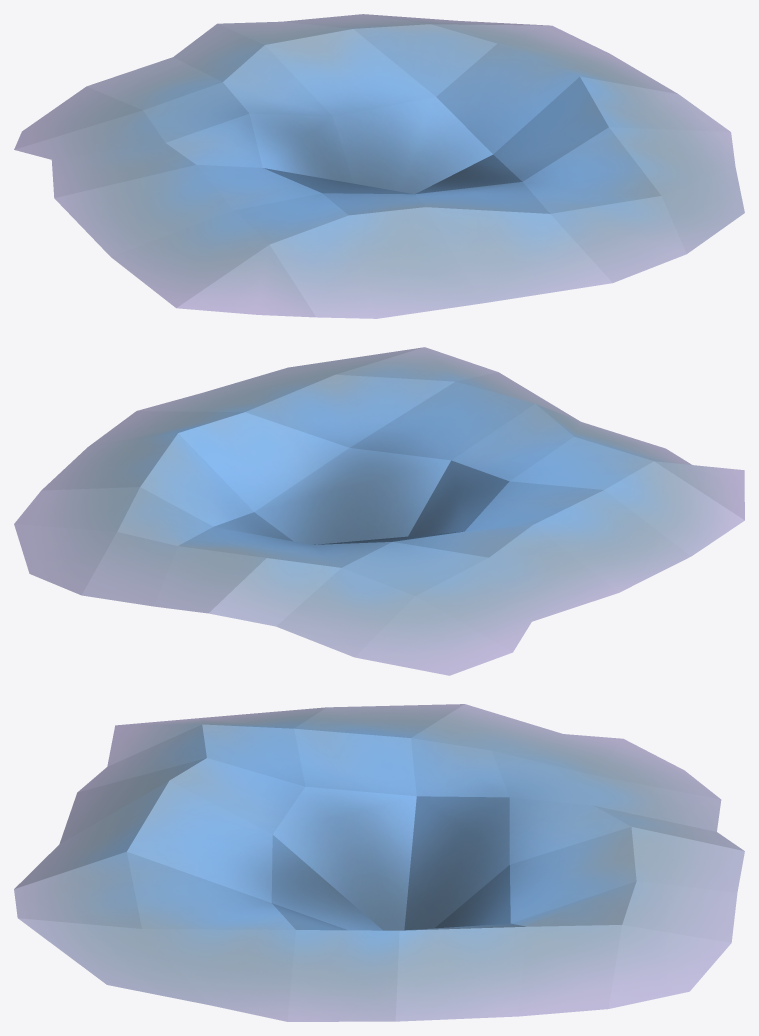
The model's file is TableCoral02.fbx.
3 views of the same model, one above another, from view 1: azimuth 30°, elevation 25°; view 2: azimuth 150°, elevation 25°; view 3: azimuth 270°, elevation 25° (orthographic). The views are drawn at different scales.
Parts seen in each view (by area): view 1: TableCoral02; view 2: TableCoral02; view 3: TableCoral02.
Part boxes in pixels (x1,y1,x2,y2): TableCoral02: (14,14,744,318); TableCoral02: (14,347,744,675); TableCoral02: (14,704,744,1021).
Bounding box in the file's own units: 13.87 × 3.06 × 13.99.
1 material, 1 textured.
